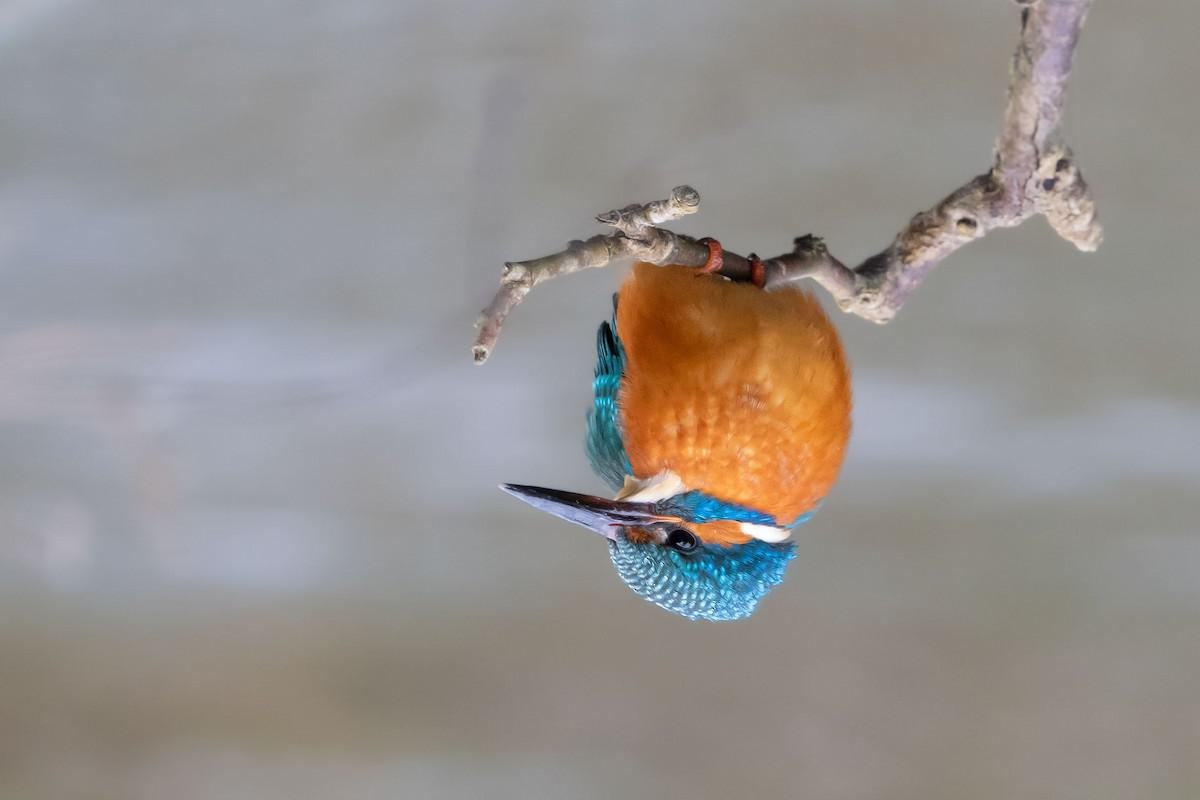kingfisher: (502, 209, 886, 625)
